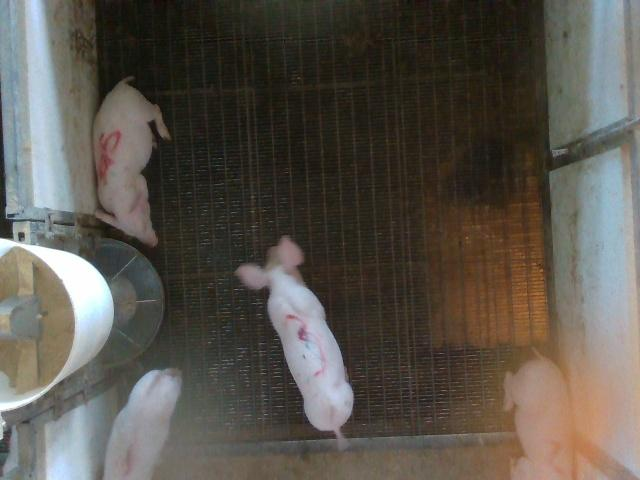pig-1: (104, 369, 181, 479)
pig-2: (504, 352, 571, 478)
pig-3: (235, 235, 352, 448)
pig-5: (92, 76, 170, 247)
